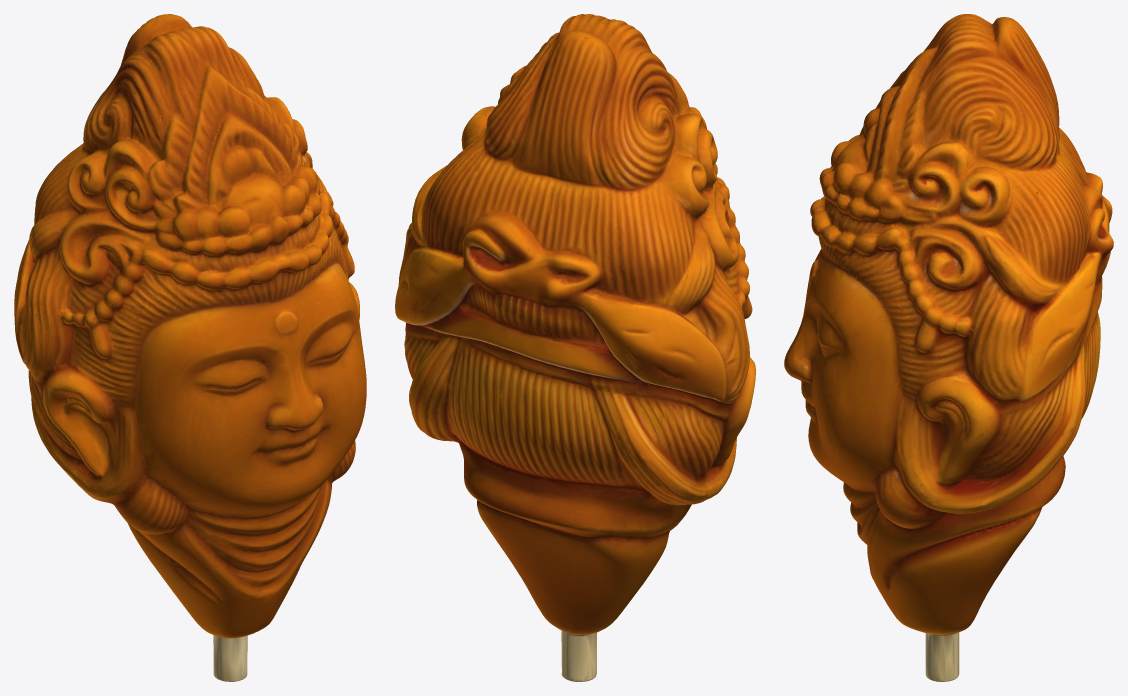
Rendered from remesh-019f66b2-b86b-754d-ba90-183ed2ed8175.glb.
3 renders of one model, left to right at view 1: azimuth 30°, elevation 25°; view 2: azimuth 150°, elevation 25°; view 3: azimuth 270°, elevation 25°, orthographic. The views are drawn at different scales.
Parts seen in each view (by area): view 1: Mesh1.0; view 2: Mesh1.0; view 3: Mesh1.0.
Boxes of the visible parts, x1,y1,x2,y2 form: Mesh1.0: (14,14,366,681); Mesh1.0: (395,14,755,681); Mesh1.0: (784,14,1113,681).
Bounding box in the file's own units: 1.04 × 2 × 0.9355.
1 material, 1 textured.
